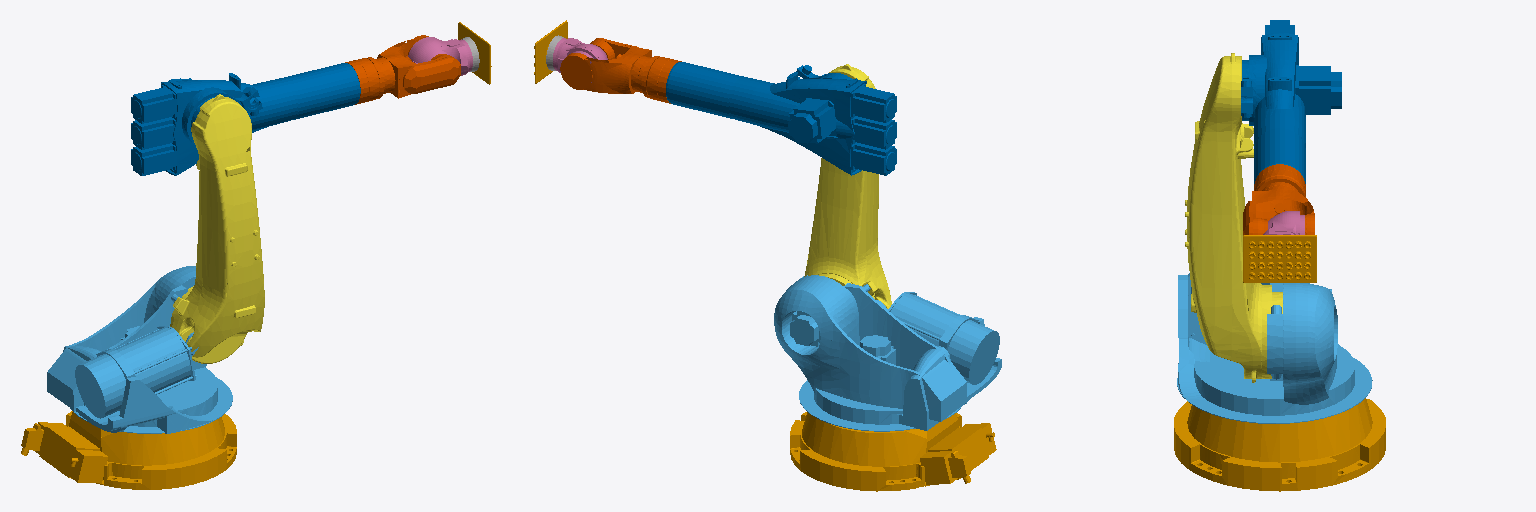
URDF robot description (kuka_kr210):
<?xml version="1.0" encoding="utf-8"?>
<robot name="kuka_kr210">
  <link name="base_link">
    <inertial>
      <origin xyz="-0.027804 0.00039112 0.14035" rpy="0 0 0"/>
      <mass value="1572.90002441"/>
      <inertia ixx="0" ixy="0" ixz="0" iyy="0" iyz="0" izz="0"/>
    </inertial>
    <visual name="visuals">
      <geometry>
        <mesh filename="./meshes/visuals.obj"/>
      </geometry>
    </visual>
    <collision name="collisions">
      <geometry>
        <mesh filename="./meshes/collisions.obj"/>
      </geometry>
    </collision>
  </link>
  <link name="link_1">
    <inertial>
      <origin xyz="-0.036811 -0.024697 0.56576997" rpy="0 0 0"/>
      <mass value="1385.5"/>
      <inertia ixx="0" ixy="0" ixz="0" iyy="0" iyz="0" izz="0"/>
    </inertial>
    <visual name="visuals">
      <geometry>
        <mesh filename="./meshes/visuals_1.obj"/>
      </geometry>
    </visual>
    <collision name="collisions">
      <geometry>
        <mesh filename="./meshes/collisions_1.obj"/>
      </geometry>
    </collision>
  </link>
  <link name="Link1"/>
  <link name="link_2">
    <inertial>
      <origin xyz="0.016923 -0.19196001 0.44751" rpy="0 0 0"/>
      <mass value="958.61999512"/>
      <inertia ixx="0" ixy="0" ixz="0" iyy="0" iyz="0" izz="0"/>
    </inertial>
    <visual name="visuals">
      <geometry>
        <mesh filename="./meshes/visuals_2.obj"/>
      </geometry>
    </visual>
    <collision name="collisions">
      <geometry>
        <mesh filename="./meshes/collisions_2.obj"/>
      </geometry>
    </collision>
  </link>
  <link name="link_3">
    <inertial>
      <origin xyz="0.18842 0.18344 -0.042799" rpy="0 0 0"/>
      <mass value="710.0300293"/>
      <inertia ixx="0" ixy="0" ixz="0" iyy="0" iyz="0" izz="0"/>
    </inertial>
    <visual name="visuals">
      <geometry>
        <mesh filename="./meshes/visuals_3.obj"/>
      </geometry>
    </visual>
    <collision name="collisions">
      <geometry>
        <mesh filename="./meshes/collisions_3.obj"/>
      </geometry>
    </collision>
  </link>
  <link name="link_4">
    <inertial>
      <origin xyz="0.27146 -0.007326 0.00005278" rpy="0 0 0"/>
      <mass value="173.72999573"/>
      <inertia ixx="0" ixy="0" ixz="0" iyy="0" iyz="0" izz="0"/>
    </inertial>
    <visual name="visuals">
      <geometry>
        <mesh filename="./meshes/visuals_4.obj"/>
      </geometry>
    </visual>
    <collision name="collisions">
      <geometry>
        <mesh filename="./meshes/collisions_4.obj"/>
      </geometry>
    </collision>
  </link>
  <link name="link_5">
    <inertial>
      <origin xyz="0.04379 0.025984 0.00000035" rpy="0 0 0"/>
      <mass value="72.16999817"/>
      <inertia ixx="0" ixy="0" ixz="0" iyy="0" iyz="0" izz="0"/>
    </inertial>
    <visual name="visuals">
      <geometry>
        <mesh filename="./meshes/visuals_5.obj"/>
      </geometry>
    </visual>
    <collision name="collisions">
      <geometry>
        <mesh filename="./meshes/collisions_5.obj"/>
      </geometry>
    </collision>
  </link>
  <link name="link_6">
    <inertial>
      <origin xyz="-0.017956 -0.00001524 0.00015484" rpy="0 0 0"/>
      <mass value="6.31540012"/>
      <inertia ixx="0" ixy="0" ixz="0" iyy="0" iyz="0" izz="0"/>
    </inertial>
    <visual name="visuals">
      <geometry>
        <mesh filename="./meshes/visuals_6.obj"/>
      </geometry>
    </visual>
    <collision name="collisions">
      <geometry>
        <mesh filename="./meshes/collisions_6.obj"/>
      </geometry>
    </collision>
  </link>
  <link name="tool0">
    <visual name="Mesh">
      <origin xyz="0.0199999 0 -0.00000001" rpy="0 0 0"/>
      <geometry>
        <mesh filename="./meshes/Mesh.obj" scale="0.001 0.001 0.001"/>
      </geometry>
    </visual>
  </link>
  <joint name="joint_a1" type="revolute">
    <origin xyz="-0.00262 0.00097586 0.33098999" rpy="0 1.57079627 0"/>
    <parent link="base_link"/>
    <child link="link_1"/>
    <axis xyz="-1 0 0"/>
    <limit lower="-3.22885912" upper="3.22885912" velocity="2.14675498"/>
    <dynamics friction="0"/>
    <!-- isaac:source_drive {"armature": 0.0, "drive": {"damping": 100000000376832.0, "max_force": 3.4028234663852886e+38, "stiffness": 999999986991104.0, "target_position": 0.0}, "instance": "angular", "source": "physx"} -->
  </joint>
  <joint name="Link1_link_1" type="fixed">
    <origin xyz="0 0 0" rpy="0 -1.57079627 0"/>
    <parent link="link_1"/>
    <child link="Link1"/>
  </joint>
  <joint name="joint_a2" type="revolute">
    <origin xyz="-0.41920005 -0.037476 0.35277" rpy="-1.57079627 0.00000006 -1.57079633"/>
    <parent link="link_1"/>
    <child link="link_2"/>
    <axis xyz="-1 0 0"/>
    <limit lower="-0.78539816" upper="1.48352986" velocity="2.00712877"/>
    <dynamics friction="0"/>
    <!-- isaac:source_drive {"armature": 0.0, "drive": {"damping": 100000000376832.0, "max_force": 3.4028234663852886e+38, "stiffness": 999999986991104.0, "target_position": 0.0}, "instance": "angular", "source": "physx"} -->
  </joint>
  <joint name="joint_a3" type="revolute">
    <origin xyz="0.1475 0.00009849 -1.24990001" rpy="0 0 0"/>
    <parent link="link_2"/>
    <child link="link_3"/>
    <axis xyz="-1 0 0"/>
    <limit lower="-3.66519116" upper="1.13446401" velocity="1.95476876"/>
    <dynamics friction="0"/>
    <!-- isaac:source_drive {"armature": 0.0, "drive": {"damping": 100000000376832.0, "max_force": 3.4028234663852886e+38, "stiffness": 999999986991104.0, "target_position": 0.0}, "instance": "angular", "source": "physx"} -->
  </joint>
  <joint name="joint_a4" type="revolute">
    <origin xyz="-0.18400007 -0.95795003 0.05505888" rpy="-3.14159265 0 -1.57079639"/>
    <parent link="link_3"/>
    <child link="link_4"/>
    <axis xyz="1 0 0"/>
    <limit lower="-6.10865238" upper="6.10865238" velocity="3.12413963"/>
    <dynamics friction="0"/>
    <!-- isaac:source_drive {"armature": 0.0, "drive": {"damping": 100000000376832.0, "max_force": 3.4028234663852886e+38, "stiffness": 999999986991104.0, "target_position": 0.0}, "instance": "angular", "source": "physx"} -->
  </joint>
  <joint name="joint_a5" type="revolute">
    <origin xyz="0.54200003 0 0.00000004" rpy="-3.14159265 0 -1.57079639"/>
    <parent link="link_4"/>
    <child link="link_5"/>
    <axis xyz="-1 0 0"/>
    <limit lower="-2.18166143" upper="2.18166143" velocity="3.00196658"/>
    <dynamics friction="0"/>
    <!-- isaac:source_drive {"armature": 0.0, "drive": {"damping": 100000000376832.0, "max_force": 3.4028234663852886e+38, "stiffness": 999999986991104.0, "target_position": 0.0}, "instance": "angular", "source": "physx"} -->
  </joint>
  <joint name="joint_a6" type="revolute">
    <origin xyz="-0.00000001 -0.19250007 0" rpy="-3.14159265 0 -1.57079639"/>
    <parent link="link_5"/>
    <child link="link_6"/>
    <axis xyz="1 0 0"/>
    <limit lower="-6.10865238" upper="6.10865238" velocity="3.82227106"/>
    <dynamics friction="0"/>
    <!-- isaac:source_drive {"armature": 0.0, "drive": {"damping": 100000000376832.0, "max_force": 3.4028234663852886e+38, "stiffness": 999999986991104.0, "target_position": 0.0}, "instance": "angular", "source": "physx"} -->
  </joint>
  <joint name="link_6_tool0" type="fixed">
    <origin xyz="0.03749988 0 -0.00023924" rpy="0 0 0"/>
    <parent link="link_6"/>
    <child link="tool0"/>
  </joint>
</robot>

--- Render facts (derived) ---
The picture shows the robot from 3 angles, left to right: view 1: azimuth 30°, elevation 25°; view 2: azimuth 150°, elevation 25°; view 3: azimuth 270°, elevation 25°; orthographic projection.
Model kuka_kr210 with 9 links and 8 joints (6 revolute, 2 fixed), rooted at base_link, posed all joints at 0.
Links seen in each view (by area): view 1: link_1, link_2, link_3, base_link, link_4, link_5, tool0; view 2: link_1, link_3, base_link, link_2, link_4, link_5, tool0; view 3: link_2, link_1, base_link, link_3, tool0, link_4, link_5.
Link boxes in pixels (x1,y1,x2,y2): link_1: (47, 266, 232, 433); link_2: (170, 94, 264, 363); link_3: (131, 63, 360, 175); base_link: (21, 411, 236, 489); link_4: (345, 35, 460, 104); link_5: (408, 37, 472, 75); tool0: (458, 22, 491, 84); link_1: (774, 275, 1001, 431); link_3: (666, 62, 896, 175); base_link: (790, 412, 996, 491); link_2: (804, 64, 891, 308); link_4: (560, 38, 681, 103); link_5: (553, 38, 607, 82); tool0: (534, 20, 567, 83); link_2: (1185, 53, 1282, 382); link_1: (1177, 273, 1372, 423); base_link: (1174, 398, 1385, 491); link_3: (1241, 20, 1341, 183); tool0: (1243, 235, 1316, 282); link_4: (1243, 164, 1314, 234); link_5: (1263, 211, 1304, 234).
Size in the robot's own frame: 2.81 by 0.9994 by 2.21 metres.
8 mesh visuals loaded from 8 distinct referenced files (8 OBJ).
